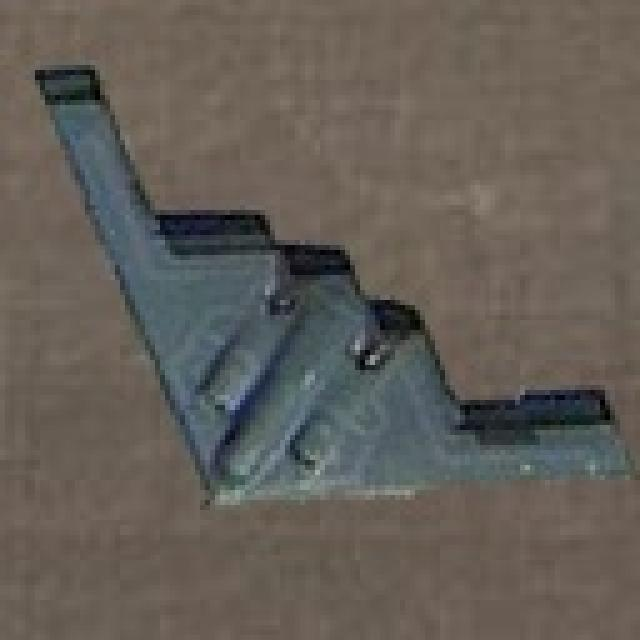B-2_TopDown: (25, 55, 635, 515)
